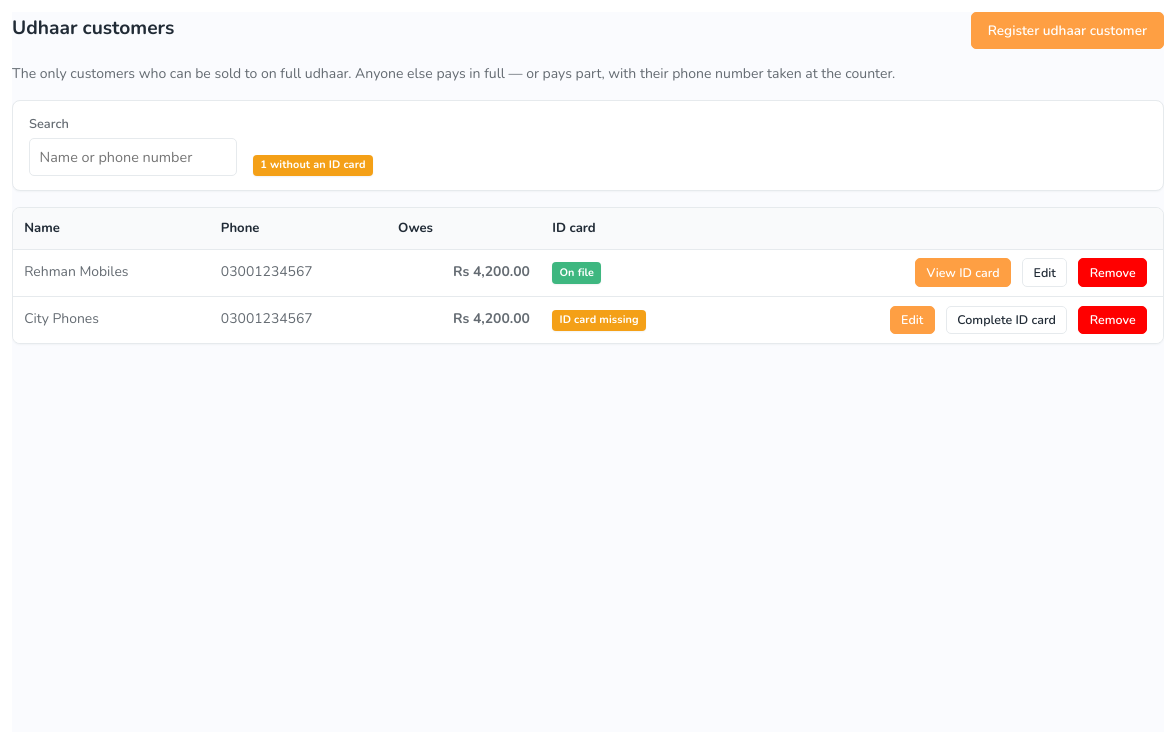
Test: editing a registered udhaar customer › shows the server refusal and keeps the form open
Step 1. Click the button with aria-label "Edit Rehman Mobiles" → (1045, 273), box [1022,258,1067,287]
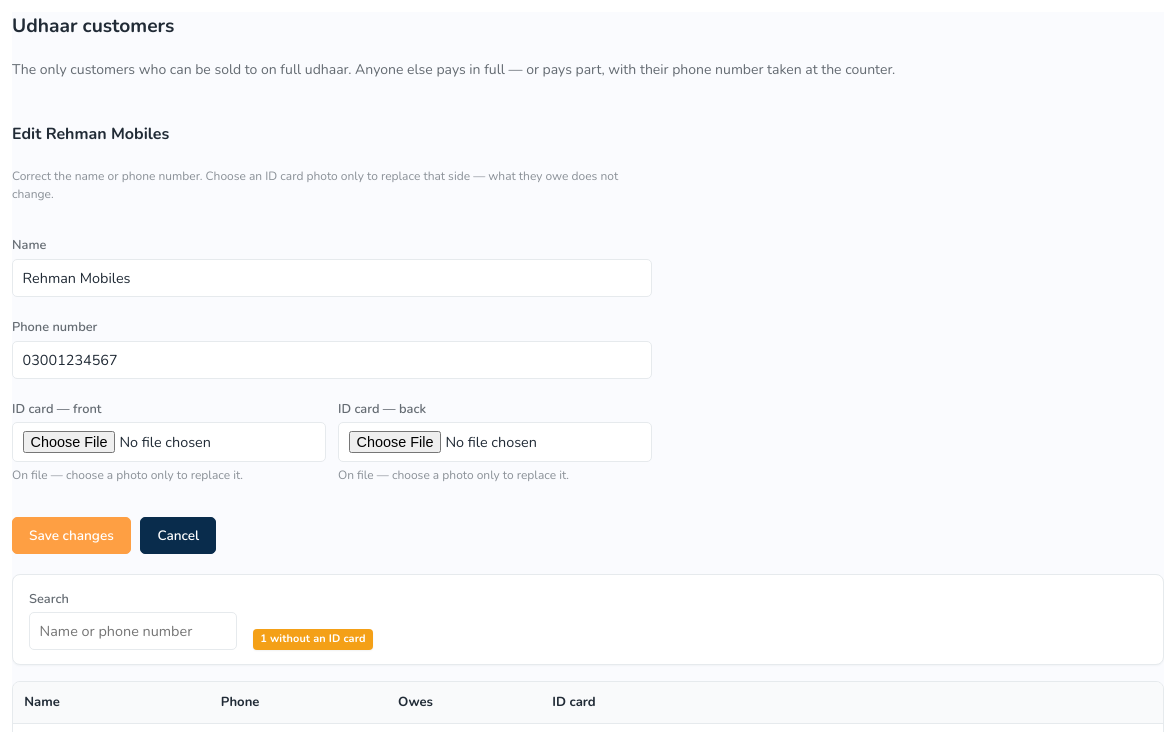
Step 2. Click the button "Save changes" → (71, 536), box [12,517,131,554]
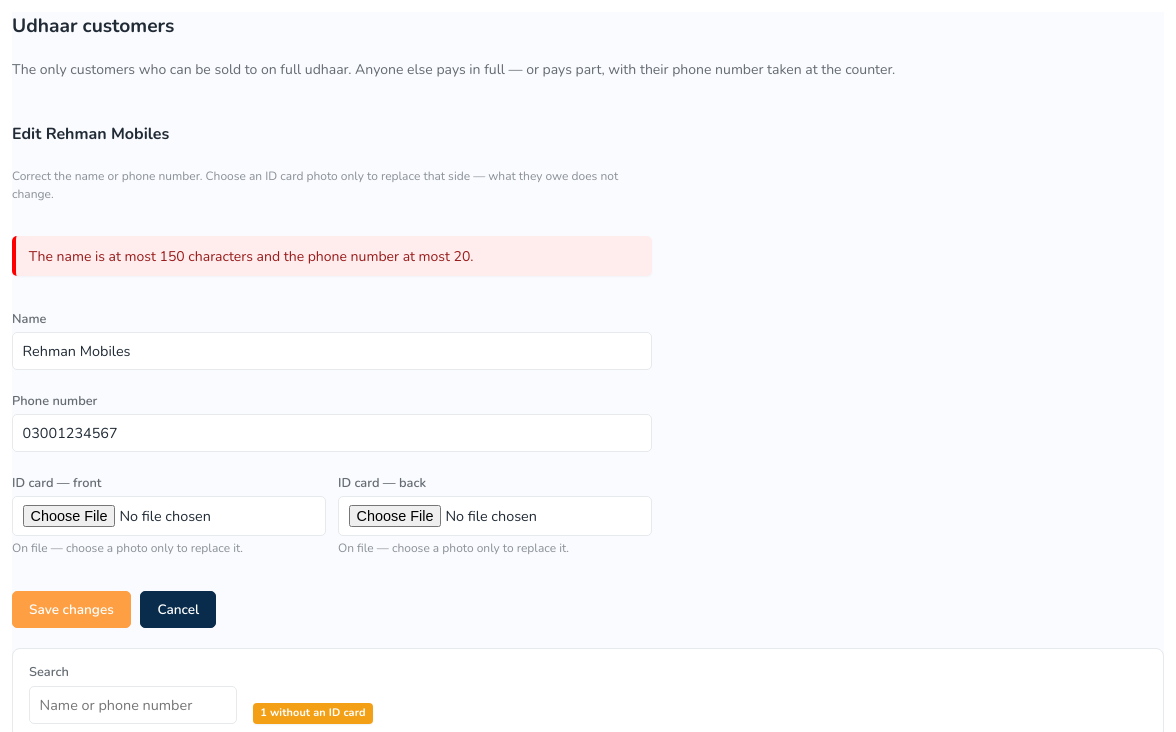
Check: the heading "Edit Rehman Mobiles" is shown, box [12,123,169,145]
Check: the message shows "at most 20", box [29,247,474,266]
